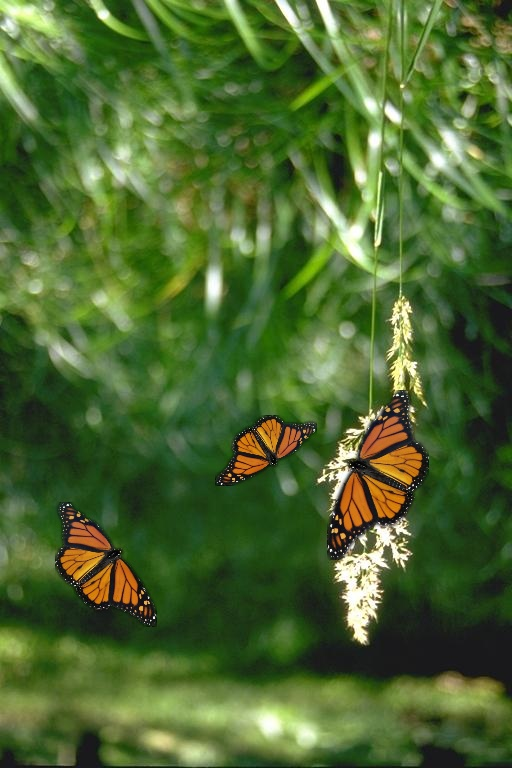danaus_plexippus: (327, 390, 429, 560), (55, 502, 157, 627), (215, 415, 317, 486)
